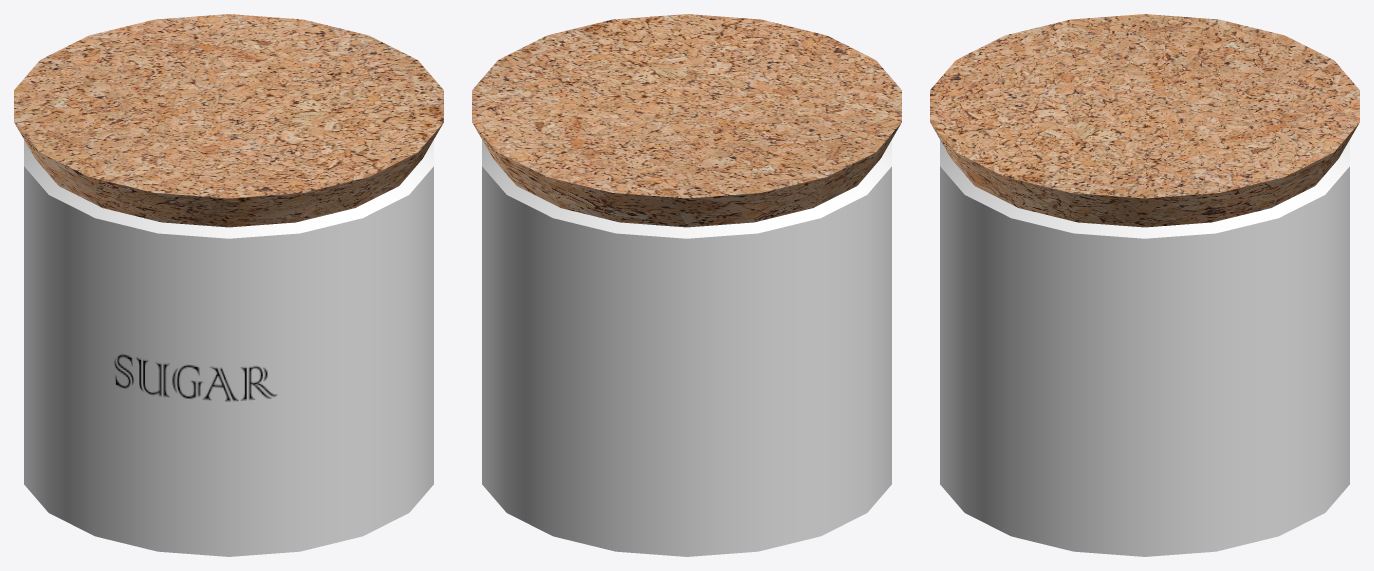
The model's file is Sugar jar.FBX.
3 renders of one model, left to right at view 1: azimuth 30°, elevation 25°; view 2: azimuth 150°, elevation 25°; view 3: azimuth 270°, elevation 25°, orthographic.
Parts seen in each view (by area): view 1: sugar jar; view 2: sugar jar; view 3: sugar jar.
Boxes of the visible parts, x1,y1,x2,y2 form: sugar jar: (14, 14, 443, 556); sugar jar: (472, 14, 901, 556); sugar jar: (930, 14, 1359, 556).
Bounding box in the file's own units: 12.16 × 11.62 × 11.98.
Materials: 1 (1 with a texture image).
